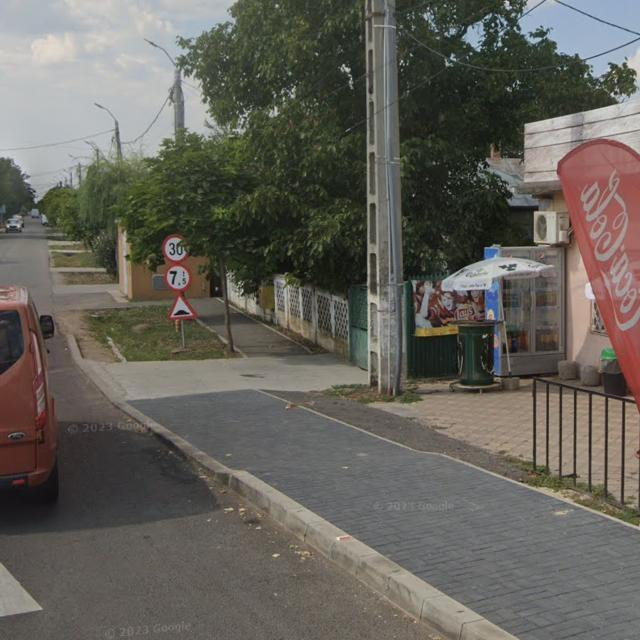forb_speed_over_30: (162, 233, 187, 263)
